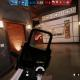Friend_label: (3, 44, 8, 47), (2, 49, 5, 52)
